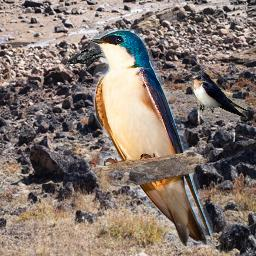Crow: (66, 48, 111, 70)
Swallow: (90, 29, 213, 247), (189, 70, 248, 120)
